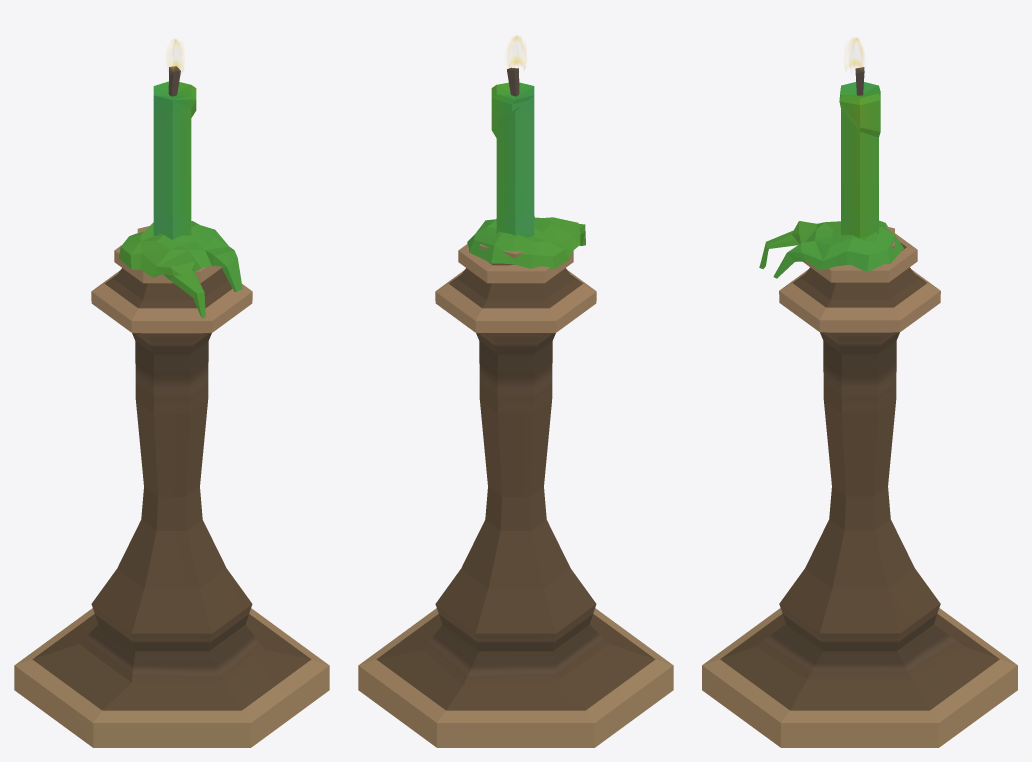
Rendered from JustCandle.glb.
3 views of the same model, side by side, from view 1: azimuth 30°, elevation 25°; view 2: azimuth 150°, elevation 25°; view 3: azimuth 270°, elevation 25° (orthographic).
Parts seen in each view (by area): view 1: SM_Prop_Candle_Stand_02, Wax, DripWax; view 2: SM_Prop_Candle_Stand_02, Wax, DripWax; view 3: SM_Prop_Candle_Stand_02, Wax, DripWax.
Part boxes in pixels (x1,y1,x2,y2): SM_Prop_Candle_Stand_02: (14, 226, 329, 747); Wax: (153, 66, 196, 239); DripWax: (118, 221, 242, 318); SM_Prop_Candle_Stand_02: (358, 244, 673, 747); Wax: (491, 67, 534, 237); DripWax: (467, 216, 585, 269); SM_Prop_Candle_Stand_02: (702, 226, 1017, 747); Wax: (839, 67, 880, 238); DripWax: (759, 220, 903, 278).
Bounding box in the file's own units: 0.3261 × 0.8774 × 0.3768.
3 materials, 3 textured.
